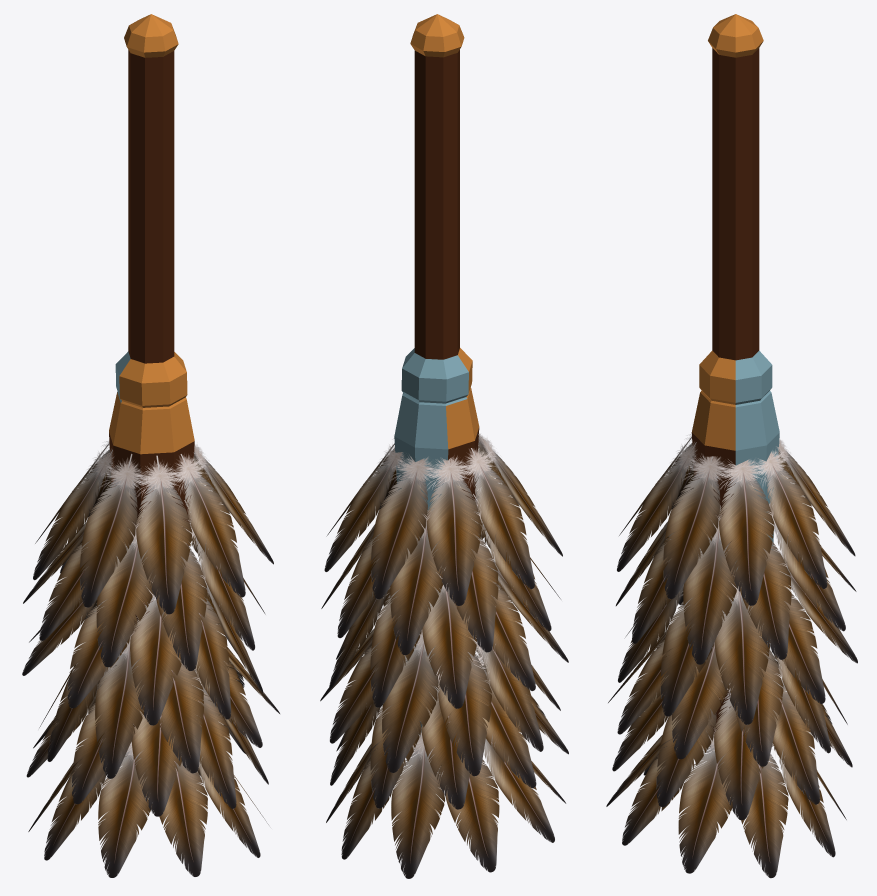
The model's file is duster.glb.
3 renders of one model, left to right at view 1: azimuth 30°, elevation 25°; view 2: azimuth 150°, elevation 25°; view 3: azimuth 270°, elevation 25°, orthographic.
Visible parts, largest first — view 1: Duster; view 2: Duster; view 3: Duster.
Part boxes in pixels (bbox=[...]): Duster: bbox=[22, 14, 279, 877]; Duster: bbox=[320, 14, 568, 878]; Duster: bbox=[606, 14, 857, 878].
Size of the model in its own units: 0.1678 by 0.5728 by 0.1655.
4 materials, 1 textured.
